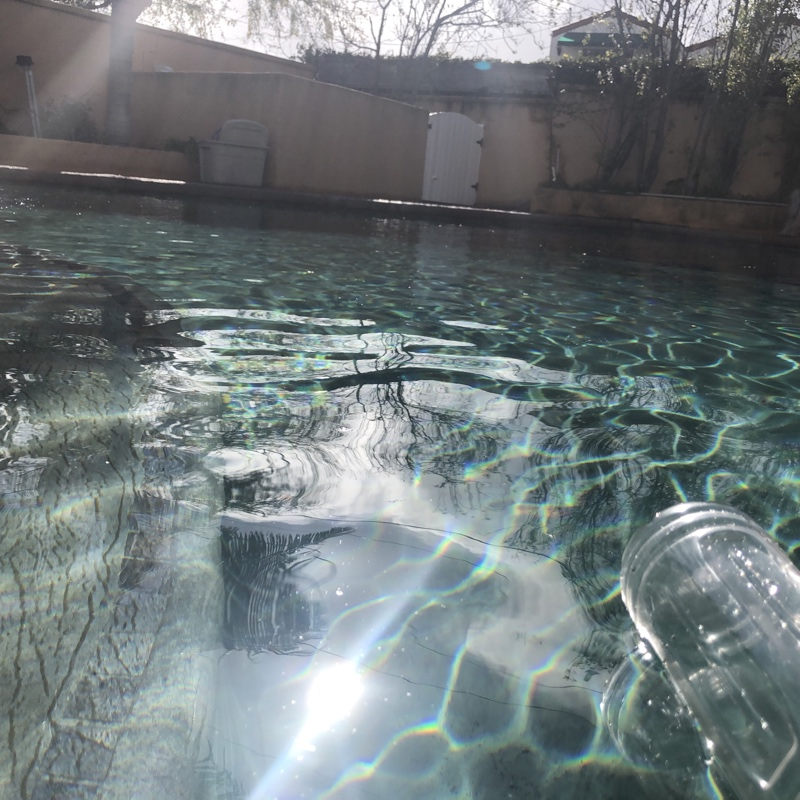Plastic Bottle: (616, 497, 800, 800)
